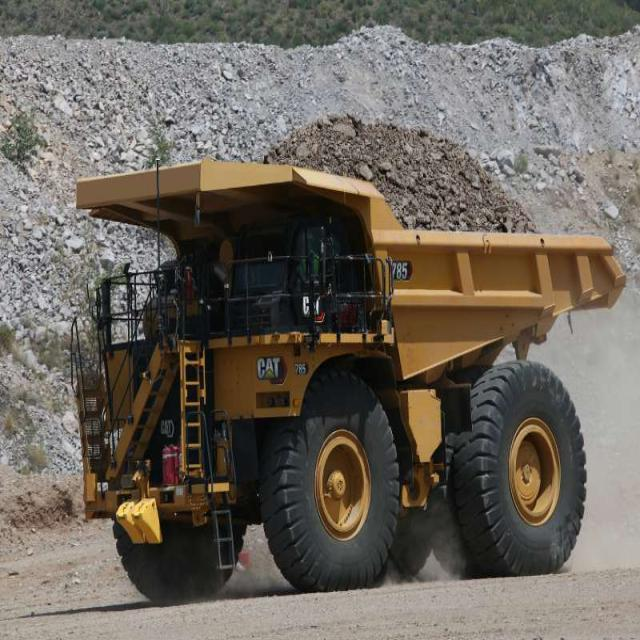dump_truck: (70, 106, 630, 602)
